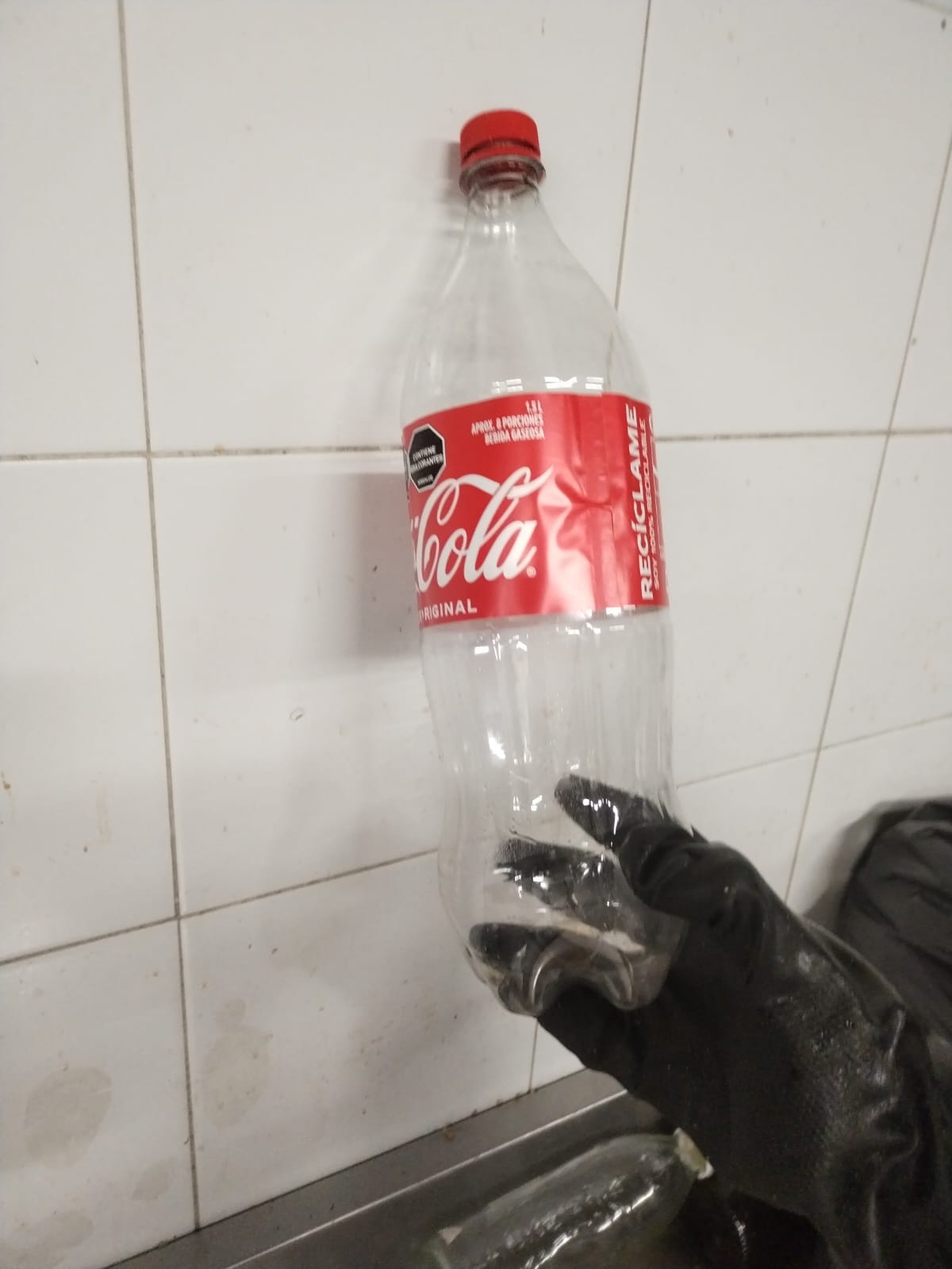Plastico: (402, 112, 685, 1021)
